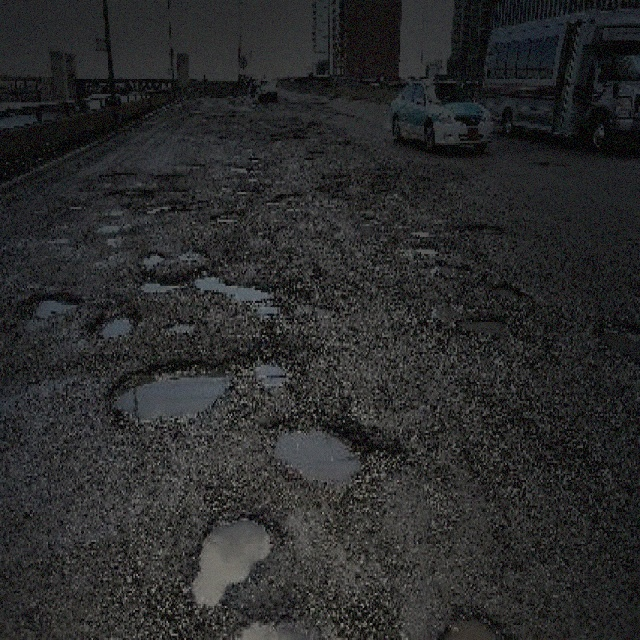pothole: (105, 352, 237, 427), (187, 508, 276, 608), (265, 414, 369, 488), (190, 269, 274, 303), (434, 599, 506, 638), (595, 316, 639, 362), (89, 303, 140, 339), (28, 288, 84, 320), (456, 311, 512, 333), (136, 273, 186, 297), (138, 248, 166, 266)
